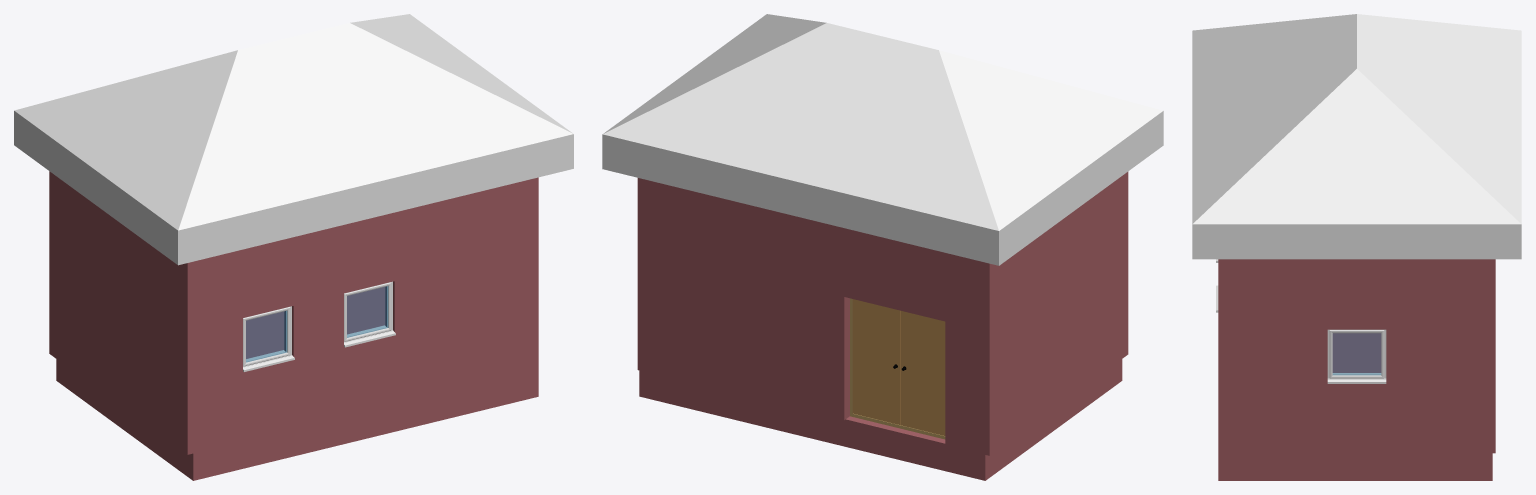
Rendered from revit.glb.
3 views of the same model, side by side, from view 1: azimuth 30°, elevation 25°; view 2: azimuth 150°, elevation 25°; view 3: azimuth 270°, elevation 25° (orthographic).
Visible parts, largest first — view 1: mesh_5, mesh_6, mesh_0_instance_1, mesh_0_instance_0, mesh_3_instance_0, mesh_3_instance_1, mesh_4_instance_0, mesh_4_instance_1; view 2: mesh_5, mesh_6, mesh_0_instance_1, mesh_0_instance_0, mesh_9, mesh_8; view 3: mesh_5, mesh_6, mesh_0_instance_0, mesh_3_instance_2, mesh_4_instance_2, mesh_2_instance_2.
Boxes of the visible parts, x1,y1,x2,y2 form: mesh_5: [14, 14, 573, 265]; mesh_6: [49, 171, 538, 454]; mesh_0_instance_1: [58, 178, 178, 447]; mesh_0_instance_0: [56, 287, 538, 480]; mesh_3_instance_0: [246, 311, 286, 362]; mesh_3_instance_1: [347, 286, 387, 337]; mesh_4_instance_0: [243, 307, 290, 366]; mesh_4_instance_1: [344, 282, 391, 341]; mesh_5: [602, 14, 1163, 265]; mesh_6: [637, 171, 1128, 455]; mesh_0_instance_1: [999, 178, 1118, 448]; mesh_0_instance_0: [639, 359, 1122, 480]; mesh_9: [852, 299, 945, 435]; mesh_8: [850, 298, 945, 439]; mesh_5: [1192, 14, 1521, 259]; mesh_6: [1218, 259, 1495, 453]; mesh_0_instance_0: [1218, 333, 1492, 480]; mesh_3_instance_2: [1333, 333, 1380, 374]; mesh_4_instance_2: [1329, 330, 1384, 378]; mesh_2_instance_2: [1327, 329, 1386, 383].
Bounding box in the file's own units: 7.09 × 6.03 × 5.09.
